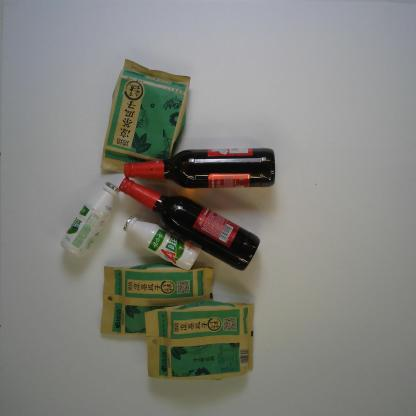Alcohol: (117, 176, 262, 272), (123, 146, 276, 190)
Dried Food: (100, 58, 192, 184), (144, 300, 255, 380), (100, 260, 214, 336)
Milk: (60, 181, 121, 258), (123, 215, 202, 271)
